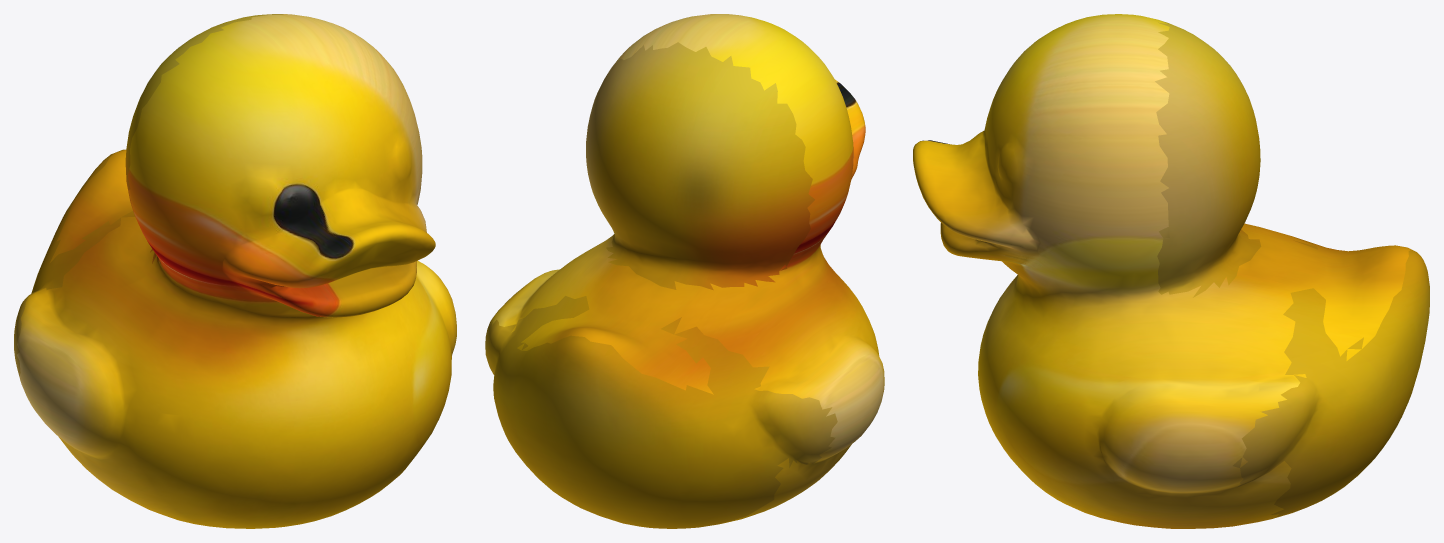
File: duck.glb
3 views of the same model, side by side, from view 1: azimuth 30°, elevation 25°; view 2: azimuth 150°, elevation 25°; view 3: azimuth 270°, elevation 25° (orthographic). The views are drawn at different scales.
Parts seen in each view (by area): view 1: duck; view 2: duck; view 3: duck.
Part boxes in pixels (bbox=[...]): duck: bbox=[14, 14, 456, 528]; duck: bbox=[485, 14, 884, 528]; duck: bbox=[913, 14, 1429, 528].
Bounding box in the file's own units: 3.05 × 3.61 × 3.6.
1 material, 1 textured.
